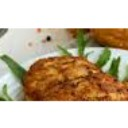cutlet: (29, 57, 127, 102)
